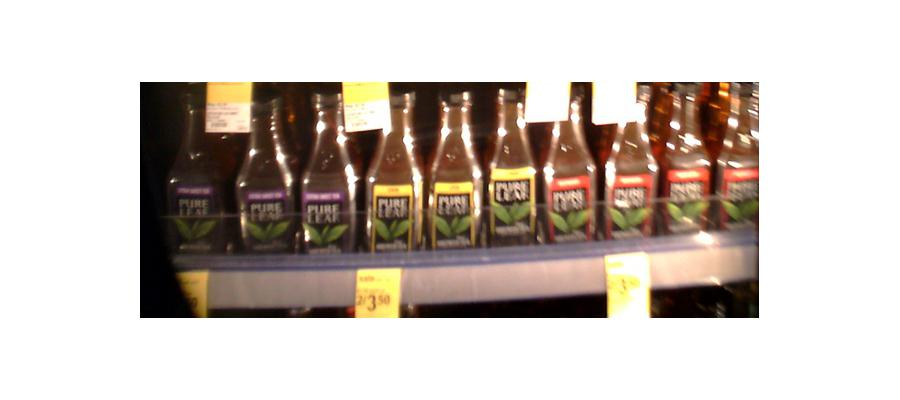bottle: (166, 95, 232, 263), (298, 90, 360, 258), (363, 87, 424, 255), (238, 91, 296, 259), (424, 88, 482, 251), (483, 80, 539, 246), (543, 83, 600, 246), (660, 83, 710, 230), (606, 99, 657, 241)
